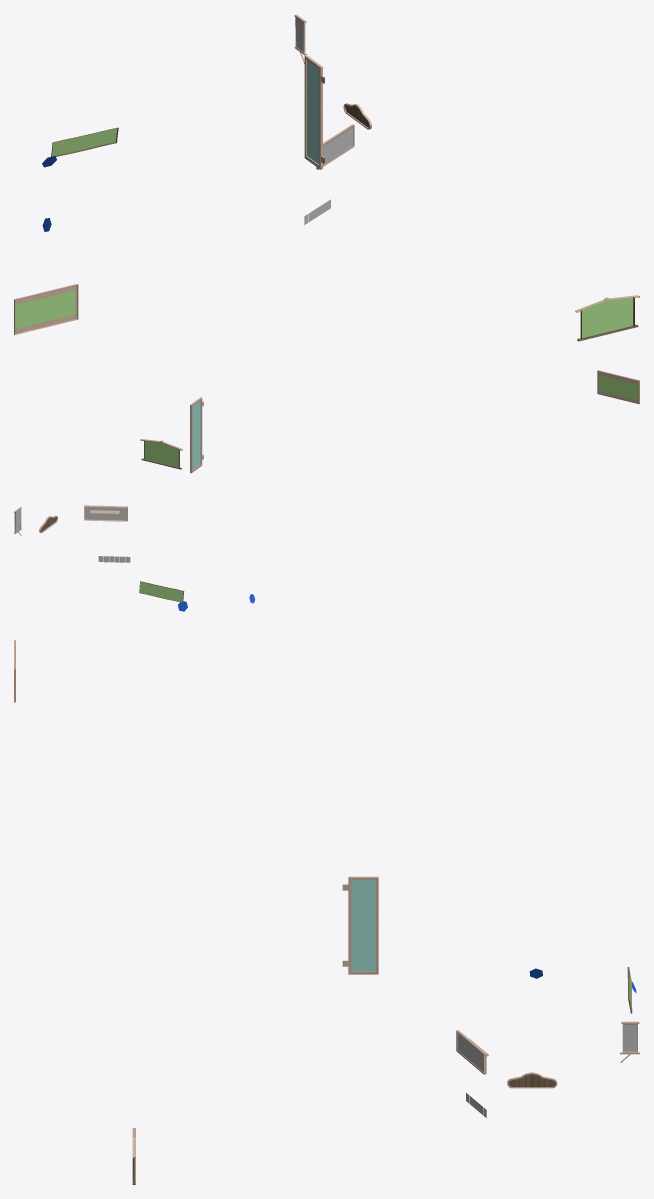
The model's file is SM_ENV_KNVLLG_Signs_7.mo.fbx.
3 views of the same model, one above another, from view 1: azimuth 30°, elevation 25°; view 2: azimuth 150°, elevation 25°; view 3: azimuth 270°, elevation 25° (orthographic). The views are drawn at different scales.
Visible parts, largest first — view 1: SM_ENV_KNVLLG_Signs_7.mo; view 2: SM_ENV_KNVLLG_Signs_7.mo; view 3: SM_ENV_KNVLLG_Signs_7.mo.
Part boxes in pixels (x1=…): SM_ENV_KNVLLG_Signs_7.mo: x1=14, y1=14, x2=639, y2=341; SM_ENV_KNVLLG_Signs_7.mo: x1=14, y1=370, x2=639, y2=611; SM_ENV_KNVLLG_Signs_7.mo: x1=14, y1=640, x2=639, y2=1184.
Size of the model in its own units: 47.37 by 15.81 by 39.4.
